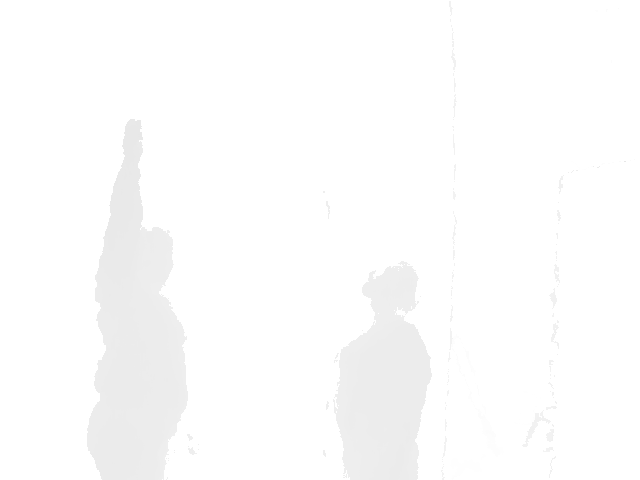hand: (122, 118, 143, 168)
head: (361, 261, 418, 318), (133, 224, 174, 298)
person: (85, 118, 190, 480), (331, 260, 434, 480)
